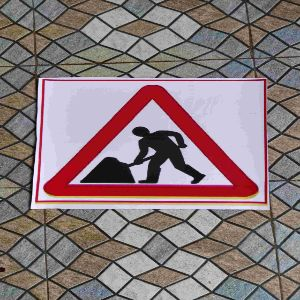men at work: (38, 78, 265, 207)
